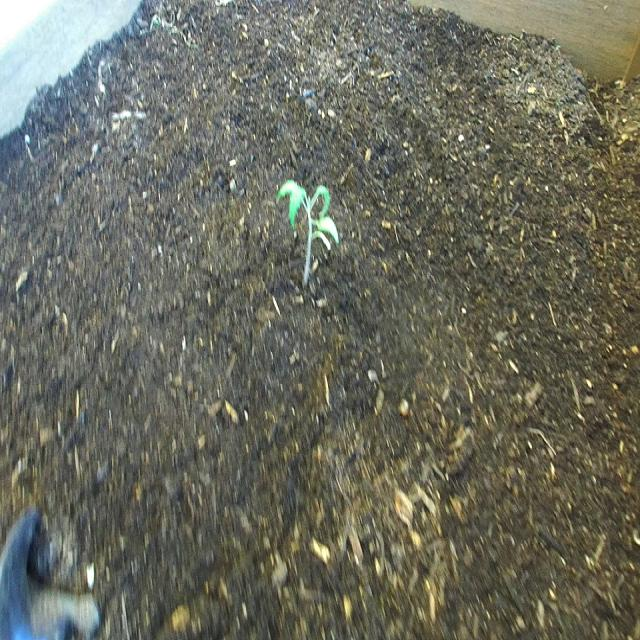Healthy: (271, 152, 346, 312)
